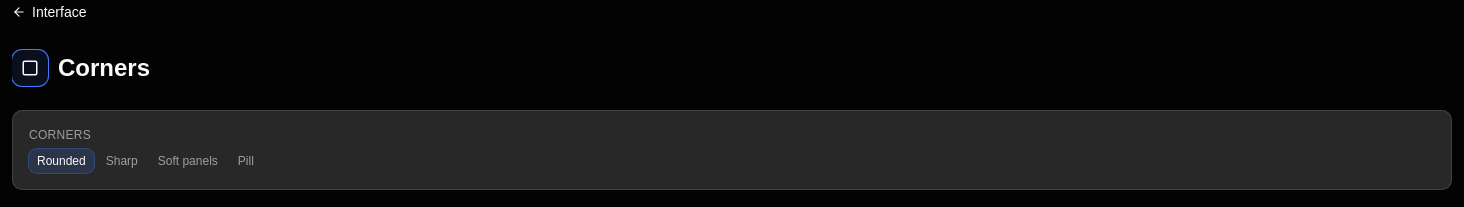
an item can be put back on its own › offers a reset only once something moved, and the reset restores the default
Expected: the button "reset corners" is not shown
# Move the axis the way a person would.
What coordinates should you click on to do the following:
click the button "Pill"
I would click on:
 (246, 161)
Its box is [230,149,262,173].
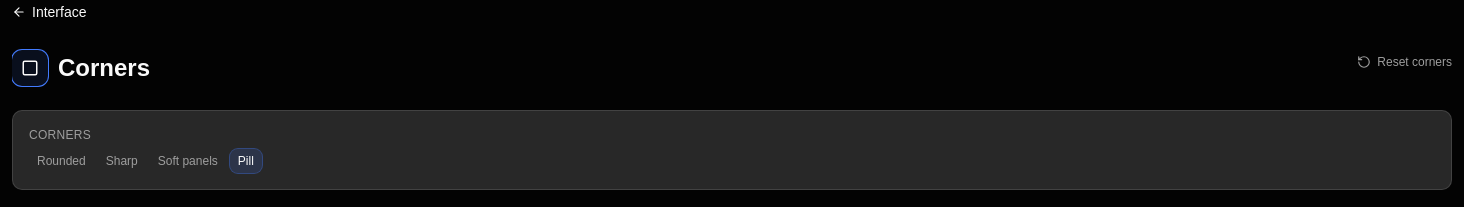
What coordinates should you click on to do the following:
click the button "Reset corners"
I would click on:
 (1405, 62)
Its box is [1357,50,1452,74].
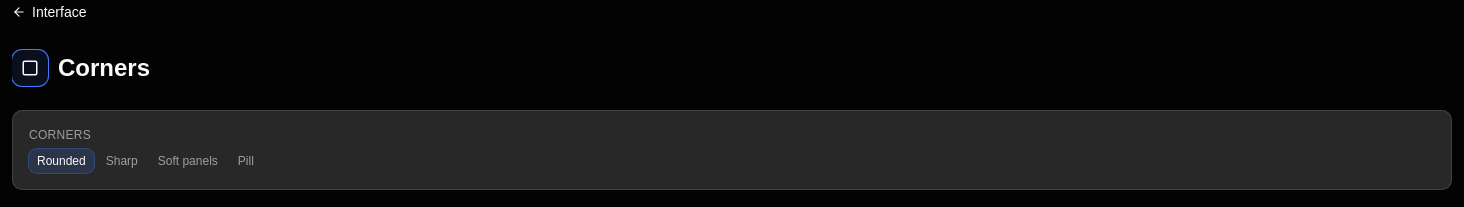
Now the button "Reset corners" is gone
